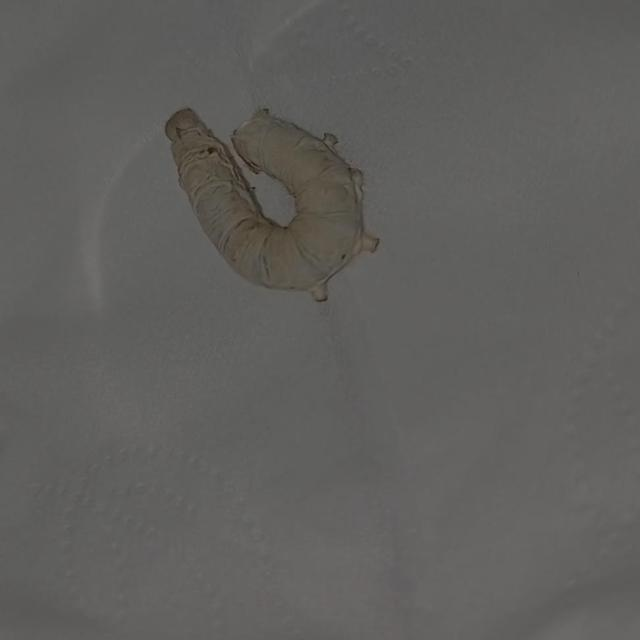Healthy: (139, 82, 411, 329)
